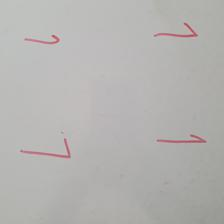primer-binding-site: (18, 137, 72, 158), (153, 22, 197, 39), (156, 133, 206, 145), (23, 33, 60, 47)
